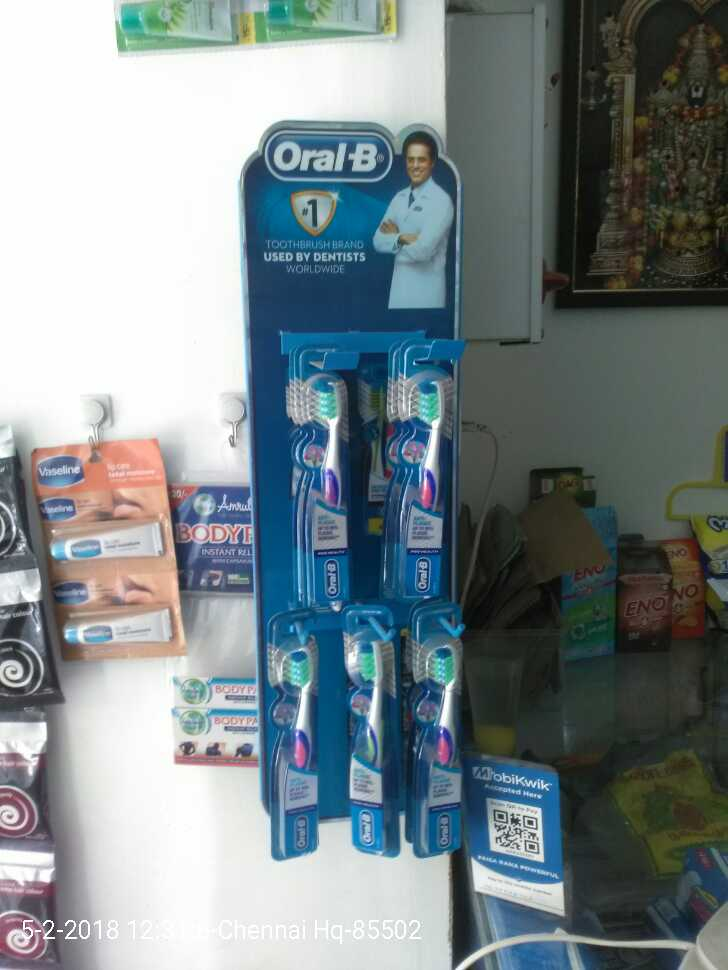oralb: (283, 342, 351, 606), (405, 609, 467, 851), (266, 609, 325, 854), (387, 342, 444, 594), (343, 600, 397, 856)
